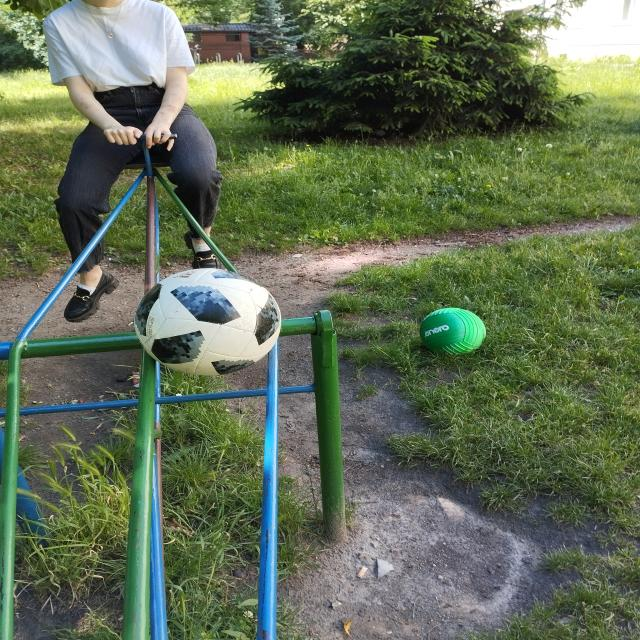nozna: (134, 268, 281, 376)
zielona: (420, 308, 486, 356)
